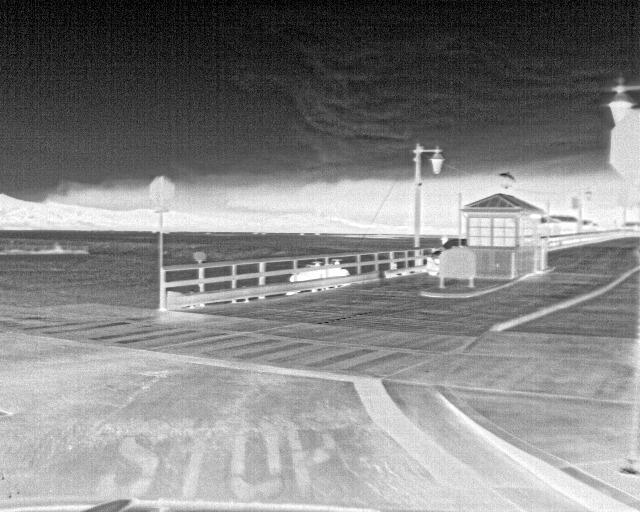car: (426, 237, 469, 272)
